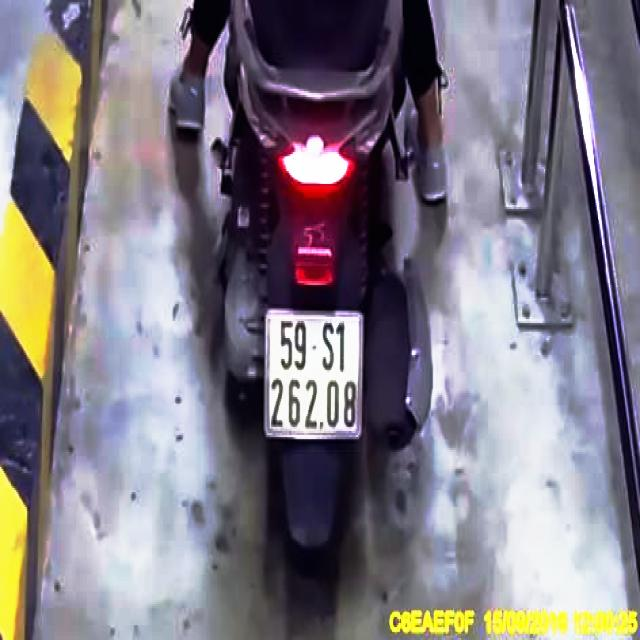license_plate: (269, 312, 362, 433)
